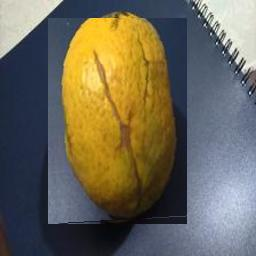Orange Semirotten: (48, 19, 187, 225)
